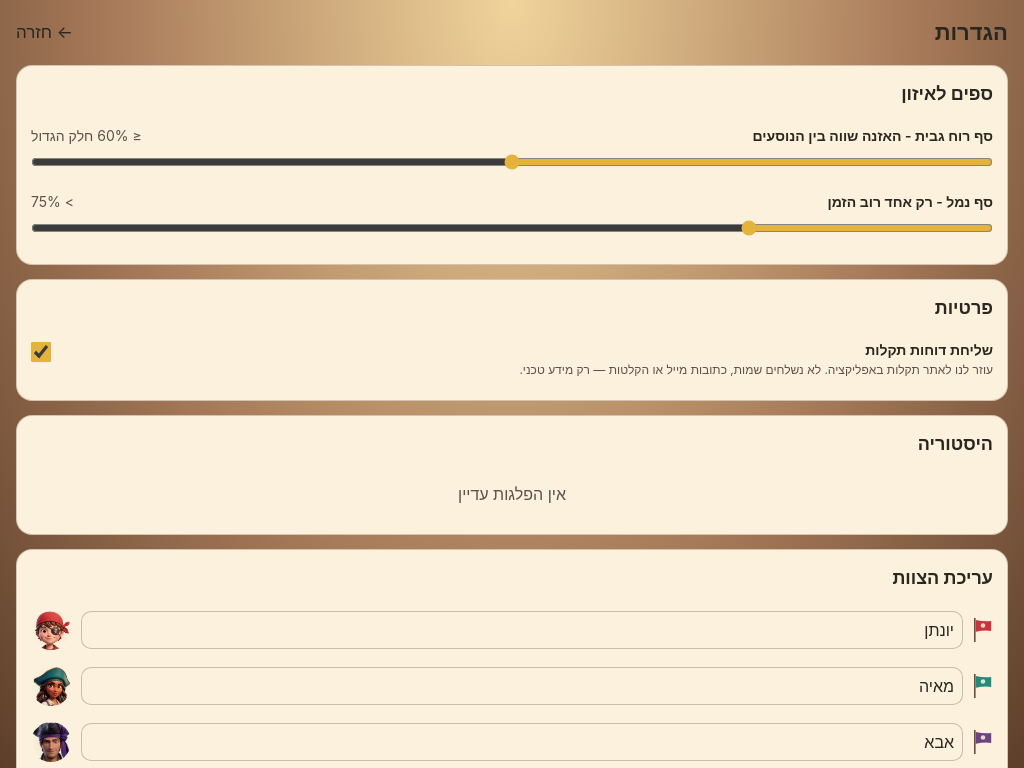
ScreenSettings — one save button for the whole screen › enables save when a crew name changes
Step 1. Replace the text in the 1st field with "נועם" → (522, 630), box [81,611,963,649]
(page scrolled)
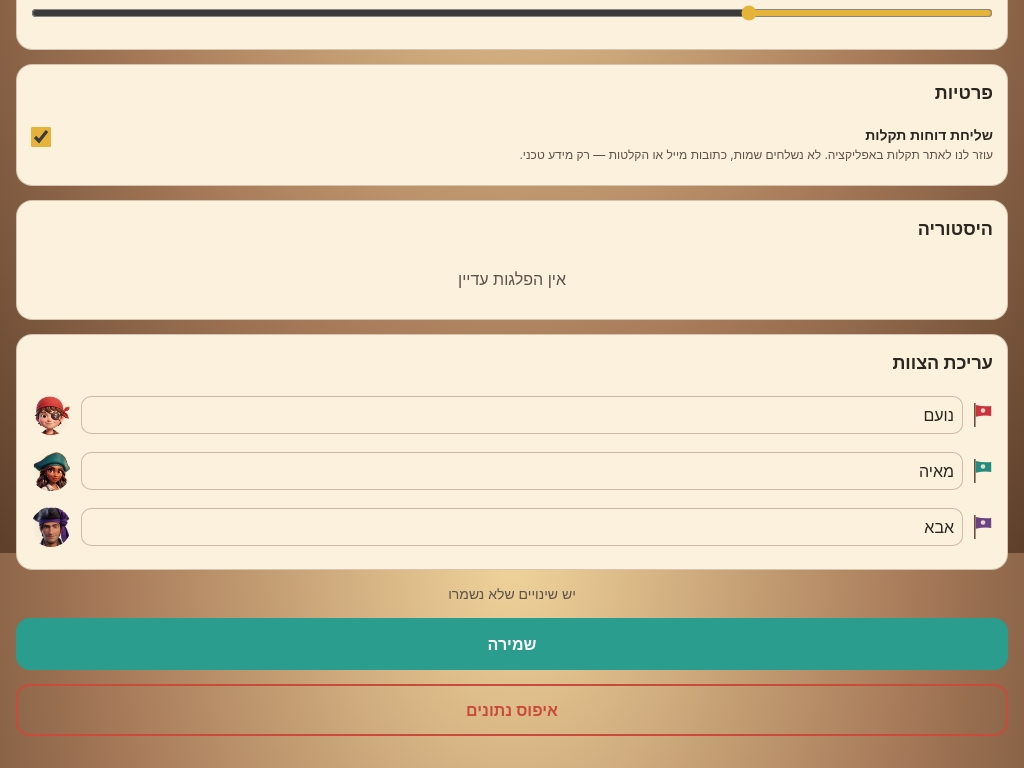
Now the button "שמירה" is enabled, box [16,618,1008,670]
